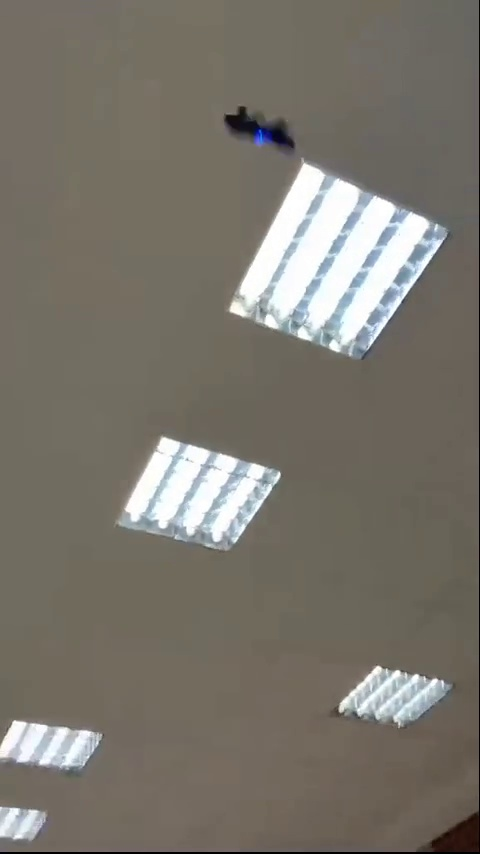drone: (221, 105, 298, 154)
